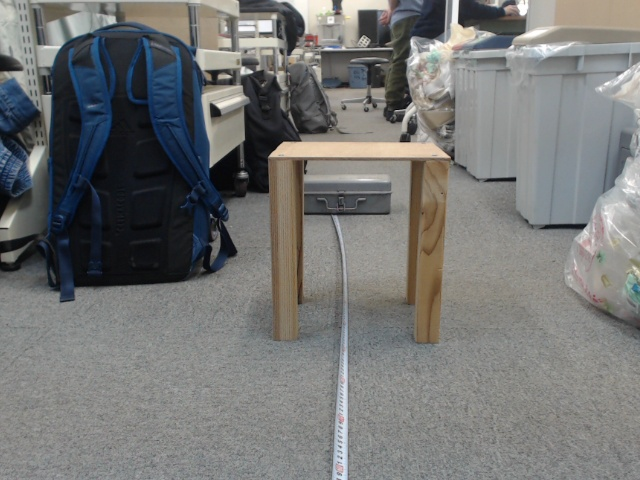desk: (275, 133, 502, 406)
